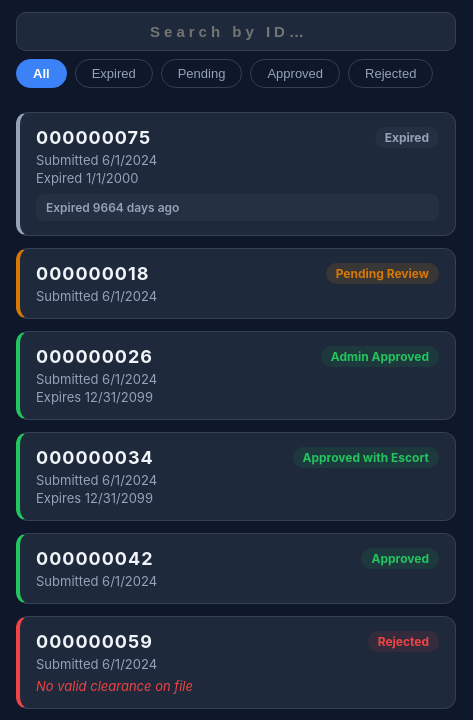
Test: MySubmissions — filter chips › Approved filter shows non-expired approved entries only
expect the text "000000018" is shown: met, box 36,263 -> 150,284
Click the button "Approved".
click(295, 74)  # box 250,59 -> 340,88
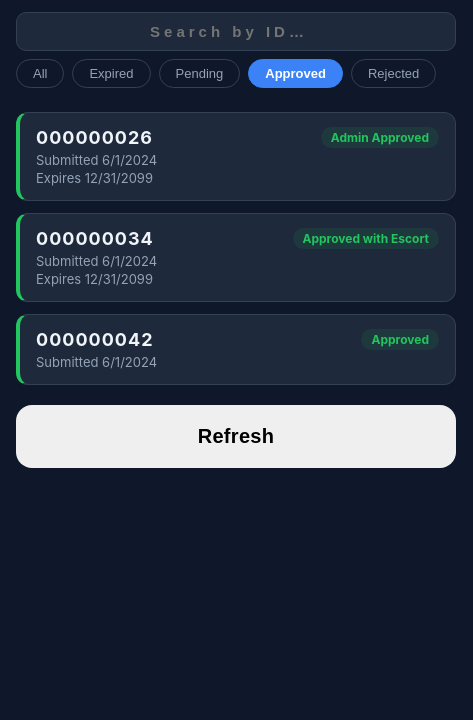
expect the text "000000026" is shown: met, box 36,127 -> 153,148
expect the text "000000075" is gone: met
expect the text "000000018" is gone: met
